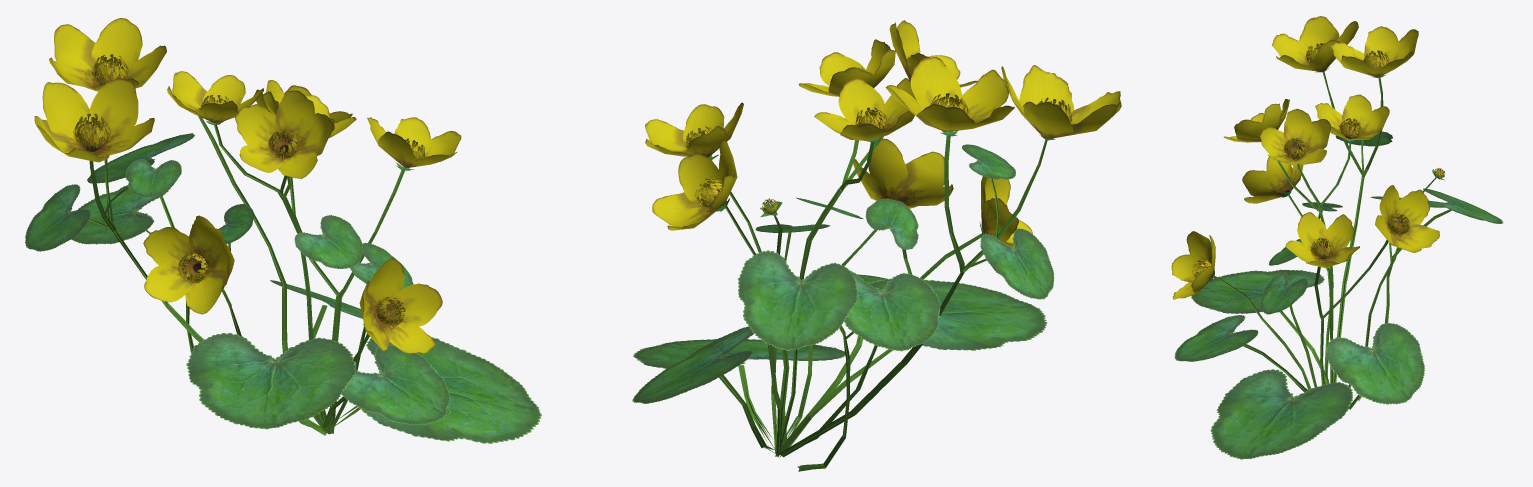
The picture shows the model from 3 angles, left to right: view 1: azimuth 30°, elevation 25°; view 2: azimuth 150°, elevation 25°; view 3: azimuth 270°, elevation 25°; orthographic projection. The views are drawn at different scales.
Parts seen in each view (by area): view 1: 34299f4a; view 2: 34299f4a; view 3: 34299f4a.
Boxes of the visible parts, x1,y1,x2,y2 form: 34299f4a: [25, 18, 541, 443]; 34299f4a: [632, 20, 1121, 471]; 34299f4a: [1171, 16, 1503, 459].
Bounding box in the file's own units: 0.2052 × 0.1624 × 0.1685.
Materials: 1 (1 with a texture image).
